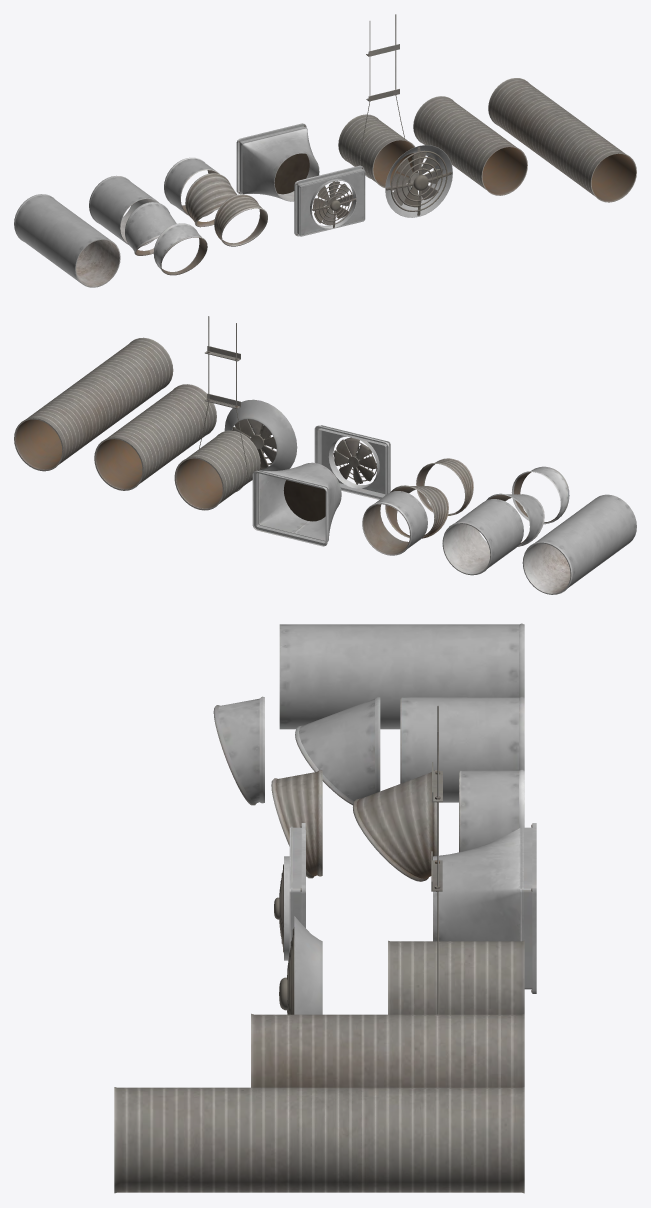
The model's file is modular_airduct_circular_01.glb.
3 renders of one model, top to bottom at view 1: azimuth 30°, elevation 25°; view 2: azimuth 150°, elevation 25°; view 3: azimuth 270°, elevation 25°, orthographic. The views are drawn at different scales.
Parts seen in each view (by area): view 1: modular_airduct_circular_triple, modular_airduct_circular_double, modular_airduct_circular_smooth_triple, modular_airduct_rectangular_converter, modular_airduct_rectangular_vent_fan, modular_airduct_circular_fan, modular_airduct_circular_single, modular_airduct_circular_smooth_double, modular_airduct_circular_bend_half, modular_airduct_circular_smooth_bend_half, modular_airduct_circular_bend_quater, modular_airduct_circular_smooth_bend_quater (+1 smaller); view 2: modular_airduct_circular_triple, modular_airduct_circular_double, modular_airduct_circular_smooth_triple, modular_airduct_rectangular_converter, modular_airduct_circular_single, modular_airduct_circular_smooth_double, modular_airduct_rectangular_vent_fan, modular_airduct_circular_fan, modular_airduct_circular_smooth_single, modular_airduct_circular_bend_half, modular_airduct_circular_bend_quater, modular_airduct_circular_smooth_bend_quater (+2 smaller); view 3: modular_airduct_circular_triple, modular_airduct_circular_smooth_triple, modular_airduct_circular_double, modular_airduct_rectangular_converter, modular_airduct_circular_single, modular_airduct_circular_smooth_double, modular_airduct_circular_smooth_bend_half, modular_airduct_circular_bend_half, modular_airduct_circular_smooth_single, modular_airduct_circular_smooth_bend_quater, modular_airduct_circular_bend_quater, modular_airduct_circular_fan (+1 smaller).
Boxes of the visible parts, box(x1,y1,x2,y2) form: modular_airduct_circular_triple: box(488, 78, 636, 202); modular_airduct_circular_double: box(413, 96, 527, 195); modular_airduct_circular_smooth_triple: box(14, 194, 120, 287); modular_airduct_rectangular_converter: box(236, 123, 319, 201); modular_airduct_rectangular_vent_fan: box(294, 165, 365, 236); modular_airduct_circular_fan: box(385, 145, 452, 217); modular_airduct_circular_single: box(338, 114, 414, 187); modular_airduct_circular_smooth_double: box(89, 175, 158, 246); modular_airduct_circular_bend_half: box(185, 173, 236, 227); modular_airduct_circular_smooth_bend_half: box(125, 202, 176, 255); modular_airduct_circular_bend_quater: box(214, 194, 267, 246); modular_airduct_circular_smooth_bend_quater: box(153, 223, 207, 275); modular_airduct_circular_triple: box(14, 337, 173, 471); modular_airduct_circular_double: box(94, 384, 216, 490); modular_airduct_circular_smooth_triple: box(522, 494, 636, 594); modular_airduct_rectangular_converter: box(252, 462, 341, 546); modular_airduct_circular_single: box(174, 430, 260, 510); modular_airduct_circular_smooth_double: box(442, 499, 523, 575); modular_airduct_rectangular_vent_fan: box(314, 425, 390, 499); modular_airduct_circular_fan: box(224, 399, 297, 470); modular_airduct_circular_smooth_single: box(362, 491, 427, 555); modular_airduct_circular_bend_half: box(385, 485, 448, 538); modular_airduct_circular_bend_quater: box(416, 458, 473, 515); modular_airduct_circular_smooth_bend_quater: box(511, 466, 569, 524); modular_airduct_circular_triple: box(114, 1087, 524, 1193); modular_airduct_circular_smooth_triple: box(279, 623, 524, 729); modular_airduct_circular_double: box(251, 1013, 524, 1087); modular_airduct_rectangular_converter: box(433, 823, 536, 993); modular_airduct_circular_single: box(388, 940, 524, 1014); modular_airduct_circular_smooth_double: box(400, 696, 524, 802); modular_airduct_circular_smooth_bend_half: box(295, 696, 380, 805); modular_airduct_circular_bend_half: box(353, 769, 437, 881); modular_airduct_circular_smooth_single: box(459, 770, 524, 852); modular_airduct_circular_smooth_bend_quater: box(213, 696, 264, 805); modular_airduct_circular_bend_quater: box(271, 770, 322, 878); modular_airduct_circular_fan: box(279, 916, 322, 1014).
Bounding box in the file's own units: 4.17 × 1.32 × 1.46.
Materials: 1 (1 with a texture image).
